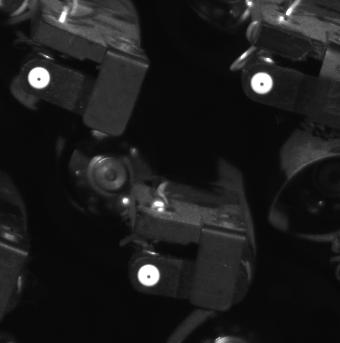fiber: (131, 260, 168, 291), (245, 68, 281, 99), (25, 63, 55, 92)
